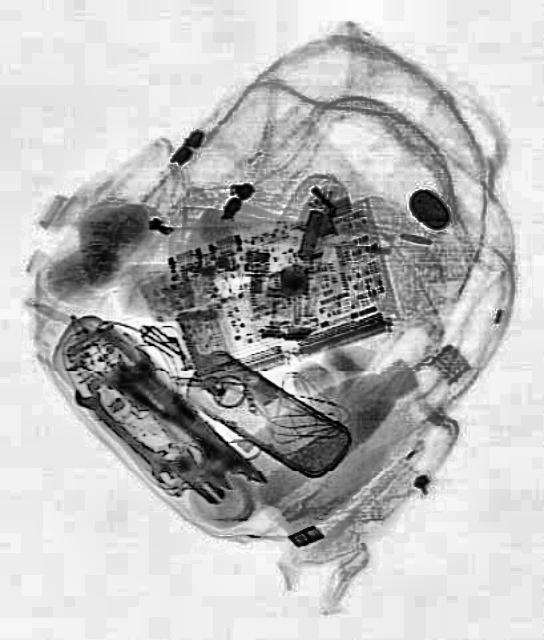Wrench: (107, 337, 257, 498), (68, 375, 182, 487)
